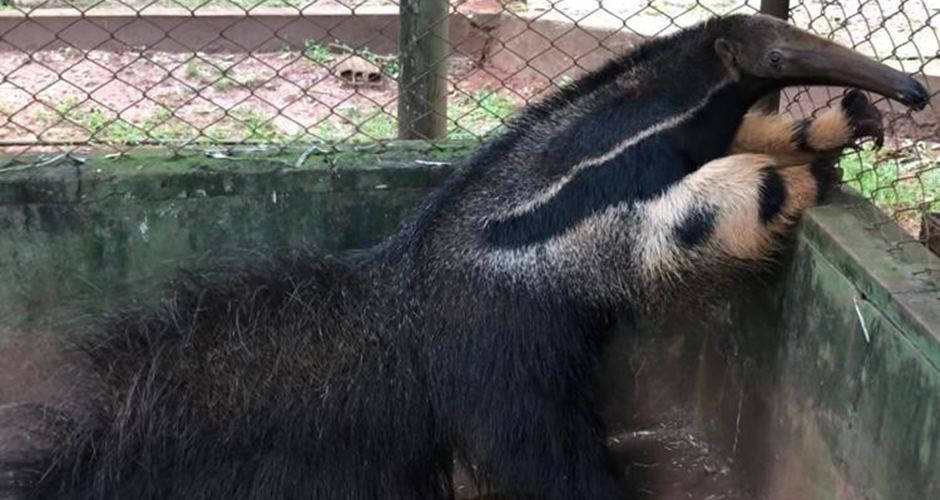TamanduaBandeira: (65, 7, 933, 487)
